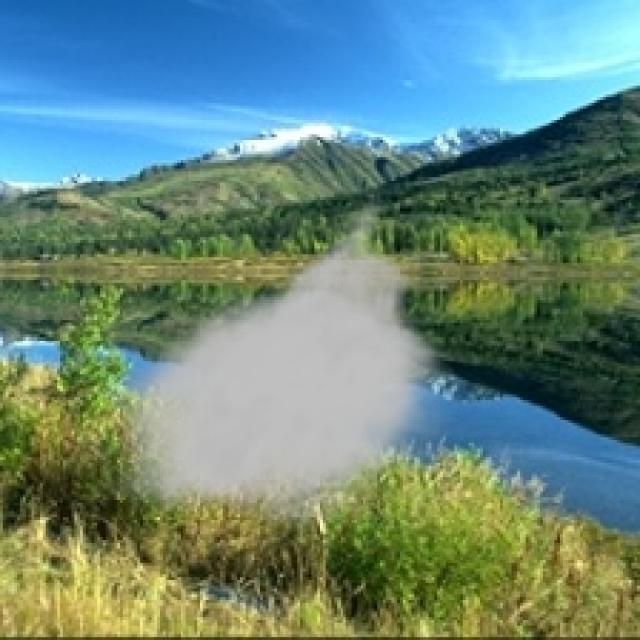smoke: (97, 183, 454, 531)
